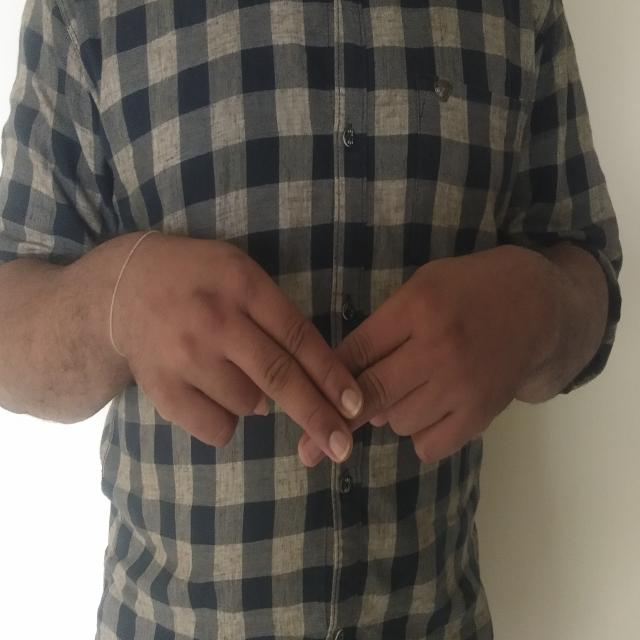F: (113, 213, 557, 496)
